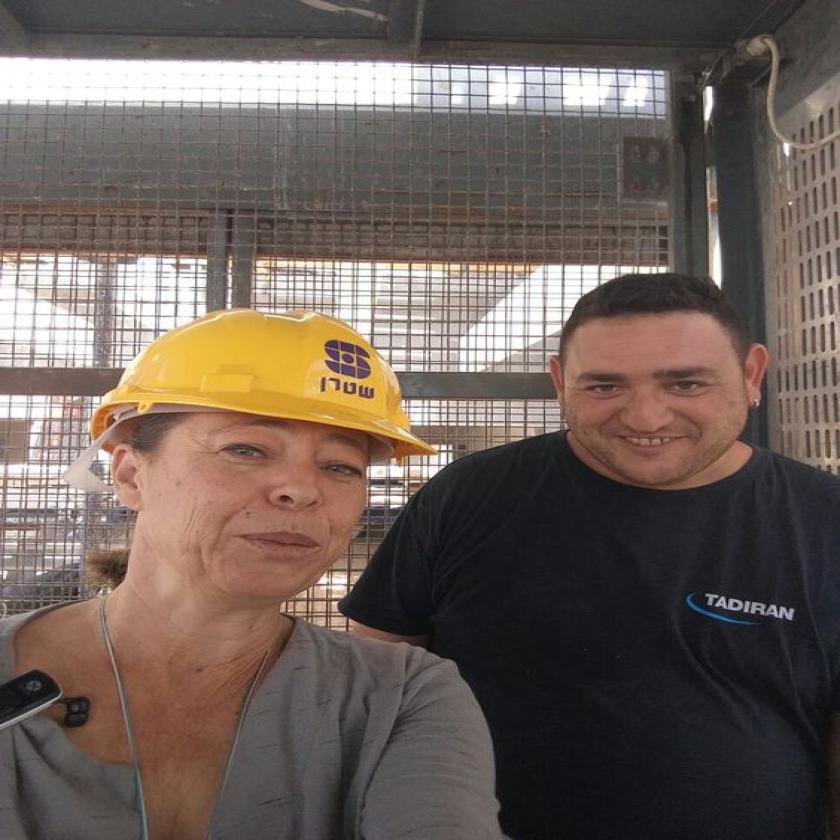Con_casco: (77, 278, 452, 644)
Sin_casco: (514, 248, 794, 514)
